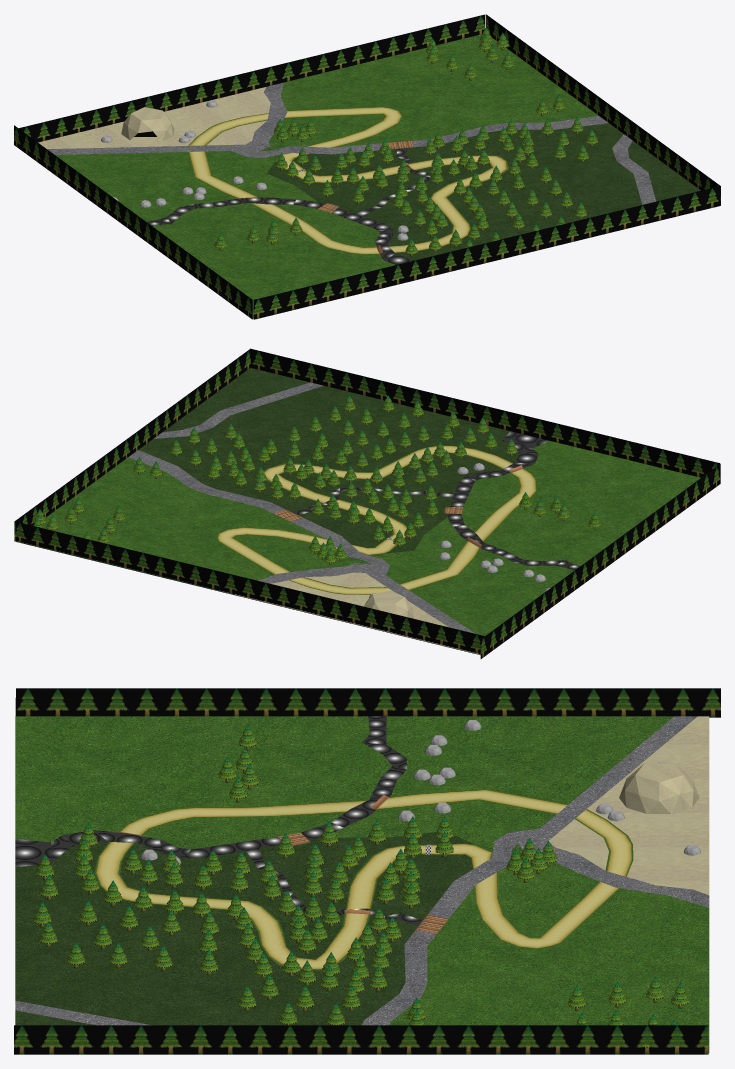
3 views of the same model, one above another, from view 1: azimuth 30°, elevation 25°; view 2: azimuth 150°, elevation 25°; view 3: azimuth 270°, elevation 25° (orthographic). The views are drawn at different scales.
Visible parts, largest first — view 1: map.003_map.003_lightgrass, map.004_map.004_darkgrass, polygon85.104_polygon85.109_ki_enkei, Plane.002_Plane.002_backtree_backtree.png.001, Plane.002_Plane.002_backtree_backtree.png, map.001_map.001_dirtroad2, map.006_map.006_road, map.005_map.005_sandroad, Plane.002_Plane.002_backtree_backtree.png.003, Plane.002_Plane.002_backtree, map.000_map.000_water, Icosphere.000_Icosphere.000_sandroad (+1 smaller); view 2: map.003_map.003_lightgrass, map.004_map.004_darkgrass, polygon85.104_polygon85.109_ki_enkei, Plane.002_Plane.002_backtree_backtree.png, Plane.002_Plane.002_backtree_backtree.png.001, map.001_map.001_dirtroad2, map.006_map.006_road, Plane.002_Plane.002_backtree_backtree.png.003, Plane.002_Plane.002_backtree, map.000_map.000_water, map.005_map.005_sandroad, Icosphere.000_Icosphere.000_sandroad (+1 smaller); view 3: map.003_map.003_lightgrass, map.004_map.004_darkgrass, polygon85.104_polygon85.109_ki_enkei, Plane.002_Plane.002_backtree, Plane.002_Plane.002_backtree_backtree.png.003, map.001_map.001_dirtroad2, map.005_map.005_sandroad, map.006_map.006_road, map.000_map.000_water, Icosphere.000_Icosphere.000_sandroad, Icosphere.013_Icosphere.013_rock, map.008_map.008_bridge.
Boxes of the visible parts, <box> form: map.003_map.003_lightgrass: <box>55,34,598,318</box>; map.004_map.004_darkgrass: <box>267,123,700,260</box>; polygon85.104_polygon85.109_ki_enkei: <box>214,27,597,256</box>; Plane.002_Plane.002_backtree_backtree.png.001: <box>253,186,720,319</box>; Plane.002_Plane.002_backtree_backtree.png: <box>19,14,485,142</box>; map.001_map.001_dirtroad2: <box>188,106,508,254</box>; map.006_map.006_road: <box>47,82,656,204</box>; map.005_map.005_sandroad: <box>38,87,270,149</box>; Plane.002_Plane.002_backtree_backtree.png.003: <box>14,125,252,319</box>; Plane.002_Plane.002_backtree: <box>486,14,720,205</box>; map.000_map.000_water: <box>147,148,430,264</box>; Icosphere.000_Icosphere.000_sandroad: <box>121,107,174,141</box>; map.003_map.003_lightgrass: <box>14,441,700,635</box>; map.004_map.004_darkgrass: <box>138,368,519,553</box>; polygon85.104_polygon85.109_ki_enkei: <box>33,395,600,564</box>; Plane.002_Plane.002_backtree_backtree.png: <box>15,521,484,654</box>; Plane.002_Plane.002_backtree_backtree.png.001: <box>251,349,720,477</box>; map.001_map.001_dirtroad2: <box>217,445,536,594</box>; map.006_map.006_road: <box>128,382,475,633</box>; Plane.002_Plane.002_backtree_backtree.png.003: <box>480,464,720,658</box>; Plane.002_Plane.002_backtree: <box>14,348,250,541</box>; map.000_map.000_water: <box>291,431,580,570</box>; map.005_map.005_sandroad: <box>235,572,480,654</box>; Icosphere.000_Icosphere.000_sandroad: <box>364,590,414,618</box>; map.003_map.003_lightgrass: <box>15,716,709,1052</box>; map.004_map.004_darkgrass: <box>15,832,474,1025</box>; polygon85.104_polygon85.109_ki_enkei: <box>33,724,689,1047</box>; Plane.002_Plane.002_backtree: <box>14,1025,708,1054</box>; Plane.002_Plane.002_backtree_backtree.png.003: <box>15,688,720,717</box>; map.001_map.001_dirtroad2: <box>94,789,633,970</box>; map.005_map.005_sandroad: <box>549,716,709,895</box>; map.006_map.006_road: <box>15,716,709,1025</box>; map.000_map.000_water: <box>15,716,422,925</box>; Icosphere.000_Icosphere.000_sandroad: <box>619,763,699,813</box>; Icosphere.013_Icosphere.013_rock: <box>140,720,700,864</box>; map.008_map.008_bridge: <box>116,795,448,933</box>.
Size of what is drawn, in the model's own units: 121156 by 4936 by 106991.
12 materials, 12 textured.
